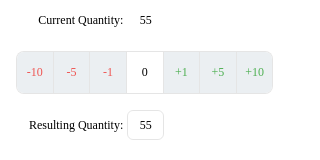
Test case: QuantitySelector › updates delta via quick actions (+10 +10 +1)
Click the button named "Add 10" at (255, 72), box x1=237 y1=52 x2=272 y2=93
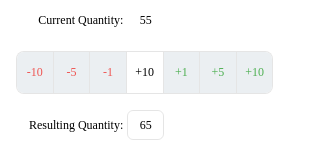
Click the button named "Add 10" at (255, 72), box x1=237 y1=52 x2=272 y2=93
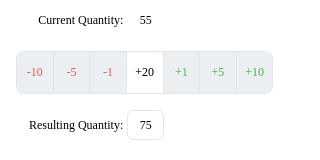
Click the button named "Add 1" at (181, 72), box x1=164 y1=52 x2=199 y2=93
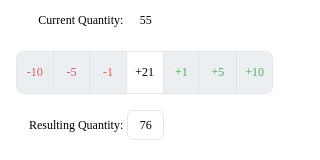
expect the field showing "+21" is shown: met, box x1=127 y1=58 x2=162 y2=88
